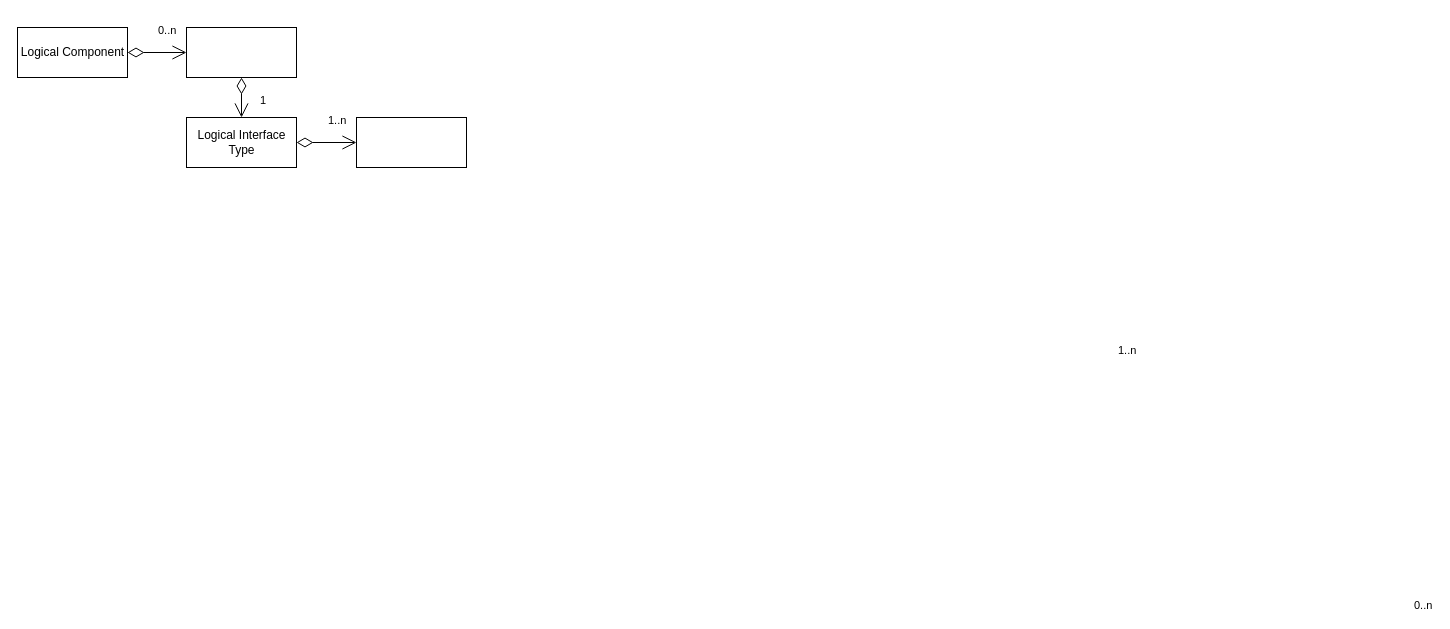
Some shapes in this 1450 by 629 pixel diagram are drawn without their labels. The centre of each missing label's shape, as x and y in pixels:
Channel: point 411,142
Logical Interface: point 241,52
